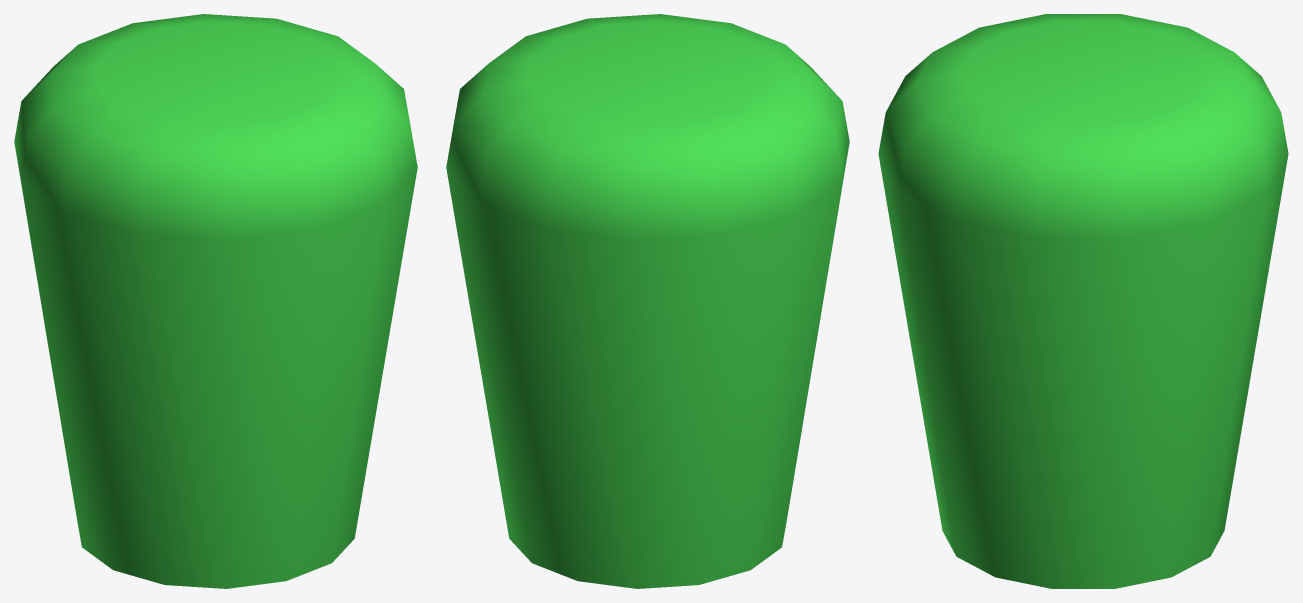
File: Cactus003.fbx
3 views of the same model, side by side, from view 1: azimuth 30°, elevation 25°; view 2: azimuth 150°, elevation 25°; view 3: azimuth 270°, elevation 25° (orthographic).
Visible parts, largest first — view 1: Cactus003; view 2: Cactus003; view 3: Cactus003.
Part boxes in pixels (box(x1,y1,x2,y2)): Cactus003: box(14, 14, 417, 588); Cactus003: box(446, 14, 849, 588); Cactus003: box(878, 14, 1288, 588).
Size of the model in its own units: 187 by 236 by 191.
